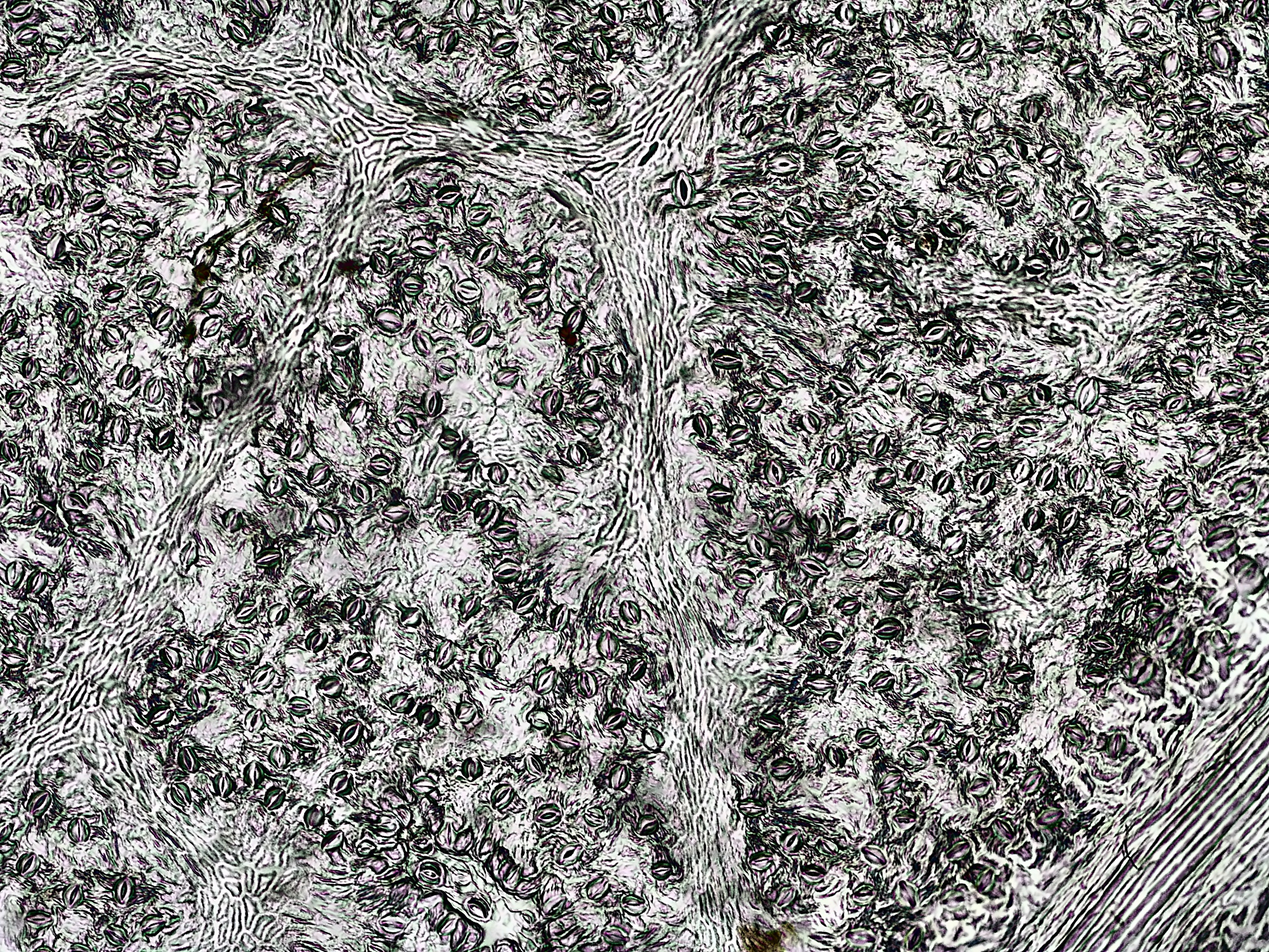stomata: (1072, 375, 1100, 414), (1203, 525, 1238, 553), (672, 170, 697, 207), (191, 241, 218, 271), (952, 36, 982, 63), (1129, 655, 1156, 685), (1187, 442, 1219, 467), (1228, 476, 1257, 503), (25, 790, 52, 819), (209, 174, 243, 197), (284, 431, 310, 461), (828, 374, 859, 399), (373, 308, 404, 333), (878, 11, 905, 39), (780, 600, 808, 627), (465, 320, 493, 347), (313, 507, 340, 535), (472, 240, 498, 269), (596, 629, 621, 659), (871, 617, 903, 640), (803, 673, 835, 696), (1161, 486, 1189, 512), (338, 719, 364, 747), (1158, 49, 1182, 79), (1144, 529, 1174, 553), (759, 255, 789, 279), (408, 236, 438, 260), (550, 731, 581, 754), (799, 556, 830, 579), (491, 32, 518, 58), (971, 106, 997, 133), (921, 320, 949, 345), (1175, 144, 1204, 168), (435, 184, 464, 208), (563, 306, 587, 335), (196, 644, 220, 673), (1002, 663, 1035, 684), (707, 214, 740, 235), (534, 665, 557, 695), (492, 561, 522, 584), (864, 65, 895, 87), (143, 374, 165, 405), (766, 155, 800, 175), (709, 349, 743, 369), (396, 18, 422, 44), (343, 398, 369, 424), (250, 664, 276, 690), (1067, 196, 1094, 221), (889, 509, 914, 536), (534, 803, 562, 827), (491, 782, 515, 810), (575, 669, 599, 697), (821, 444, 845, 472), (411, 329, 435, 357), (512, 589, 540, 613), (183, 355, 207, 383), (86, 135, 115, 158), (547, 3, 576, 26), (1058, 506, 1081, 535), (177, 745, 200, 774), (1207, 41, 1229, 71), (919, 413, 949, 435), (380, 501, 410, 523), (834, 146, 865, 167), (227, 19, 252, 45), (966, 773, 992, 798), (815, 35, 842, 59), (956, 735, 980, 762), (342, 595, 366, 622), (185, 685, 209, 712), (166, 112, 194, 135), (1012, 554, 1035, 582), (764, 458, 787, 486), (520, 284, 548, 307), (434, 639, 457, 667), (229, 320, 252, 348), (113, 876, 136, 904), (23, 910, 55, 930), (243, 759, 265, 788), (1217, 381, 1247, 402), (738, 797, 768, 818), (16, 853, 41, 878), (781, 102, 805, 128), (1156, 622, 1180, 648), (1018, 769, 1044, 793), (923, 720, 947, 746), (585, 876, 611, 900), (575, 416, 601, 440), (591, 35, 614, 62), (785, 205, 812, 228), (1155, 568, 1182, 591), (465, 204, 492, 227), (541, 389, 564, 416), (458, 593, 481, 620), (585, 83, 613, 105), (1161, 392, 1189, 414), (602, 925, 630, 947), (970, 431, 998, 453), (867, 670, 895, 692), (285, 156, 314, 177), (863, 270, 892, 291), (266, 202, 291, 226), (599, 1, 624, 25), (740, 114, 764, 139), (941, 530, 966, 554), (903, 745, 928, 769), (770, 756, 795, 780), (757, 231, 787, 251), (834, 516, 858, 541), (306, 463, 331, 487), (151, 306, 175, 331), (116, 364, 140, 389), (104, 923, 129, 947), (909, 92, 932, 118), (642, 726, 665, 752), (817, 630, 843, 653), (493, 365, 519, 388), (367, 453, 393, 476), (930, 125, 957, 147), (557, 842, 584, 864), (867, 432, 889, 459), (578, 352, 600, 379), (268, 744, 290, 771), (439, 27, 460, 55), (935, 583, 963, 604), (621, 894, 649, 915), (706, 483, 734, 504), (304, 803, 325, 831), (238, 241, 258, 270), (1182, 94, 1211, 114), (1234, 345, 1263, 365), (1035, 807, 1064, 827), (876, 581, 905, 601), (110, 414, 130, 443), (727, 192, 759, 210), (1020, 98, 1044, 122), (1107, 569, 1131, 593), (603, 707, 627, 731), (972, 471, 996, 495), (80, 449, 104, 473), (974, 154, 999, 177), (996, 184, 1021, 207), (1036, 464, 1059, 489), (1084, 664, 1109, 687), (932, 470, 955, 495), (747, 533, 770, 558), (703, 539, 726, 564), (578, 390, 603, 413), (461, 756, 484, 781), (330, 771, 353, 796), (319, 676, 344, 699), (67, 817, 90, 842), (533, 87, 559, 109), (552, 42, 578, 64), (1126, 17, 1152, 39), (1037, 145, 1063, 167), (1100, 456, 1126, 478), (1023, 505, 1045, 531), (861, 845, 887, 867), (473, 499, 495, 525), (388, 692, 414, 714), (488, 521, 518, 540), (106, 156, 133, 177), (69, 157, 96, 178), (43, 183, 64, 210), (1196, 2, 1223, 23), (1113, 234, 1140, 255), (1067, 464, 1088, 491), (761, 369, 788, 390), (146, 704, 173, 725), (550, 603, 570, 631), (179, 541, 199, 569), (836, 93, 860, 116), (993, 751, 1016, 775), (780, 829, 804, 852), (731, 254, 754, 278), (771, 510, 795, 533), (328, 368, 351, 392), (234, 600, 257, 624), (81, 190, 106, 212), (855, 180, 880, 202), (1006, 136, 1028, 161), (609, 764, 631, 789), (877, 372, 902, 394), (855, 350, 880, 372), (401, 274, 426, 296), (396, 412, 418, 437), (350, 478, 372, 503), (619, 600, 641, 625), (212, 772, 234, 797), (478, 645, 500, 670), (135, 276, 160, 298), (197, 286, 222, 308), (26, 570, 48, 595), (1128, 80, 1154, 101), (1152, 110, 1178, 131), (991, 705, 1012, 731), (330, 335, 356, 356), (453, 826, 474, 852), (380, 913, 406, 934), (243, 709, 264, 735), (347, 652, 373, 673), (170, 781, 191, 807), (1062, 57, 1089, 77), (963, 623, 990, 643), (975, 867, 995, 894), (846, 928, 876, 946), (981, 382, 1008, 402), (422, 390, 442, 417), (106, 102, 134, 121), (254, 548, 282, 567), (46, 232, 65, 260), (1028, 383, 1051, 406), (942, 159, 964, 183), (1105, 734, 1127, 758), (878, 770, 902, 792), (852, 883, 876, 905), (417, 705, 439, 729), (263, 786, 285, 810), (11, 613, 35, 635), (140, 913, 164, 935), (1012, 458, 1033, 483), (525, 709, 550, 730), (862, 228, 887, 249), (692, 413, 713, 438), (293, 732, 318, 753), (99, 213, 120, 238), (62, 884, 83, 909), (1119, 600, 1139, 626), (892, 810, 918, 830), (896, 881, 916, 907), (747, 851, 773, 871), (758, 714, 785, 733), (840, 549, 867, 568), (1, 647, 28, 666), (128, 82, 151, 104), (1210, 626, 1233, 648), (992, 819, 1015, 841), (773, 885, 796, 907), (856, 727, 879, 749), (368, 251, 391, 273), (522, 254, 545, 276), (458, 279, 481, 301), (265, 475, 288, 497), (305, 629, 327, 652), (267, 603, 289, 626), (159, 647, 182, 669), (200, 315, 223, 337), (221, 509, 243, 532), (212, 122, 236, 143), (1079, 236, 1103, 257), (963, 668, 987, 689), (827, 744, 848, 768), (794, 282, 818, 303), (1017, 417, 1041, 438), (727, 424, 751, 445), (567, 443, 588, 467), (419, 861, 440, 885), (410, 775, 438, 793), (226, 638, 250, 659), (130, 220, 154, 241), (818, 191, 843, 211), (1215, 144, 1240, 164), (1193, 242, 1218, 262), (1170, 356, 1195, 376), (286, 696, 311, 716), (154, 424, 174, 449), (946, 840, 972, 859), (836, 596, 862, 615), (79, 398, 98, 424), (5, 561, 24, 587), (1228, 269, 1255, 287), (800, 864, 827, 882), (915, 234, 937, 256), (1065, 723, 1087, 745), (809, 514, 831, 536), (798, 411, 820, 433), (392, 182, 414, 204), (487, 462, 509, 484), (457, 450, 479, 472), (835, 2, 856, 25), (894, 206, 917, 227), (1112, 494, 1133, 517), (468, 896, 489, 919), (39, 126, 59, 150), (10, 192, 30, 216), (525, 753, 545, 777), (954, 335, 974, 359), (904, 460, 924, 484), (437, 305, 457, 329), (20, 356, 40, 380), (0, 439, 20, 463), (1, 59, 26, 78), (187, 92, 206, 117), (644, 0, 663, 25), (814, 130, 840, 148), (1024, 255, 1050, 273), (939, 218, 965, 236), (1185, 330, 1211, 348), (1183, 652, 1204, 674), (650, 860, 672, 881), (636, 814, 658, 835), (438, 428, 460, 449), (399, 605, 421, 626), (626, 657, 647, 679), (456, 701, 477, 723), (292, 584, 313, 606), (59, 363, 80, 385), (244, 105, 267, 125), (441, 491, 461, 514), (107, 248, 130, 268), (16, 27, 40, 46), (154, 159, 178, 178), (1020, 34, 1044, 53), (1224, 177, 1248, 196), (1050, 236, 1069, 260), (815, 838, 839, 857), (732, 569, 756, 588), (1188, 265, 1213, 283), (1218, 298, 1244, 315), (997, 253, 1018, 274), (435, 357, 456, 378), (102, 325, 123, 346), (75, 232, 96, 253), (1053, 18, 1075, 38), (584, 807, 606, 827), (742, 391, 764, 411), (875, 316, 898, 335), (609, 352, 628, 375), (102, 282, 125, 301), (518, 110, 542, 128), (1164, 312, 1188, 330), (906, 925, 923, 950), (914, 383, 934, 404), (875, 468, 896, 488), (774, 25, 796, 44), (321, 830, 343, 849), (5, 390, 27, 409), (1090, 633, 1113, 651), (505, 84, 526, 103), (62, 306, 81, 327), (42, 37, 65, 54), (63, 509, 87, 525), (65, 493, 89, 509), (1219, 419, 1245, 433), (1144, 603, 1163, 621), (356, 839, 376, 855)
